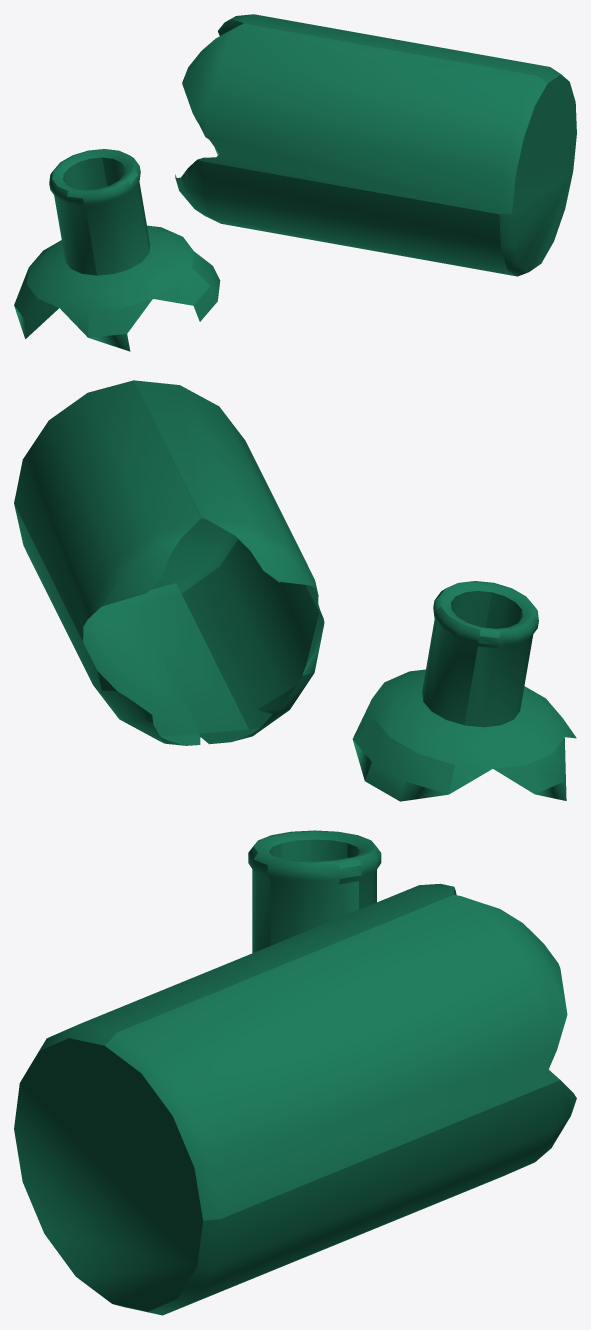
The model's file is batle1.glb.
3 renders of one model, top to bottom at view 1: azimuth 30°, elevation 25°; view 2: azimuth 150°, elevation 25°; view 3: azimuth 270°, elevation 25°, orthographic. The views are drawn at different scales.
Visible parts, largest first — view 1: Cylinder_003, Cylinder_004; view 2: Cylinder_003, Cylinder_004; view 3: Cylinder_003, Cylinder_004.
Part boxes in pixels (x1,y1,x2,y2): Cylinder_003: (175, 14, 576, 276); Cylinder_004: (14, 149, 220, 351); Cylinder_003: (14, 380, 324, 745); Cylinder_004: (352, 581, 576, 801); Cylinder_003: (14, 883, 576, 1315); Cylinder_004: (248, 830, 381, 953).
Size of the model in its own units: 8.49 by 3.41 by 5.6.
